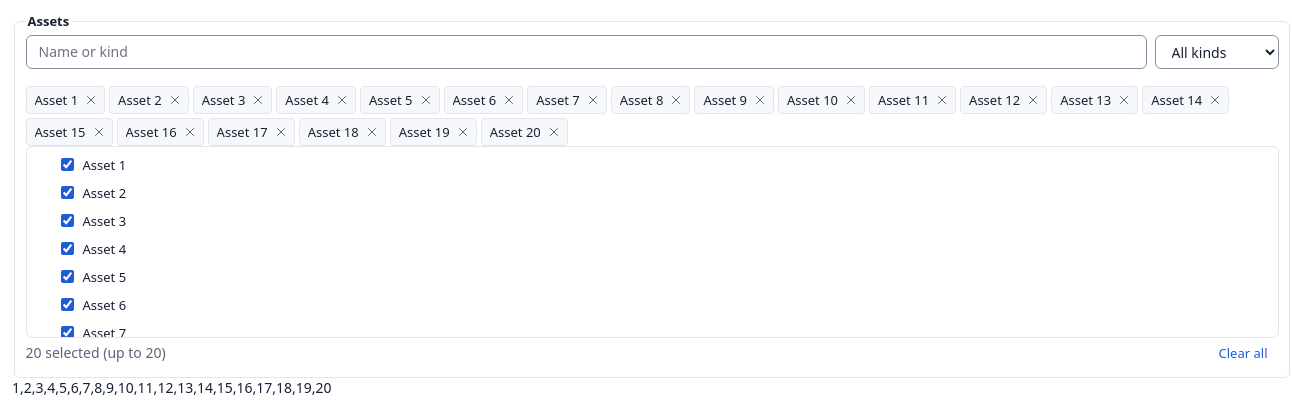
Test: AssetPicker › stops at the cap: the rest are disabled until something is unchecked
Expected: the text "20 selected (up to 20)" is shown, [26, 343, 166, 363]
Click the checkbox labelled "Asset 1" at point(67, 165), box [60, 158, 74, 171]
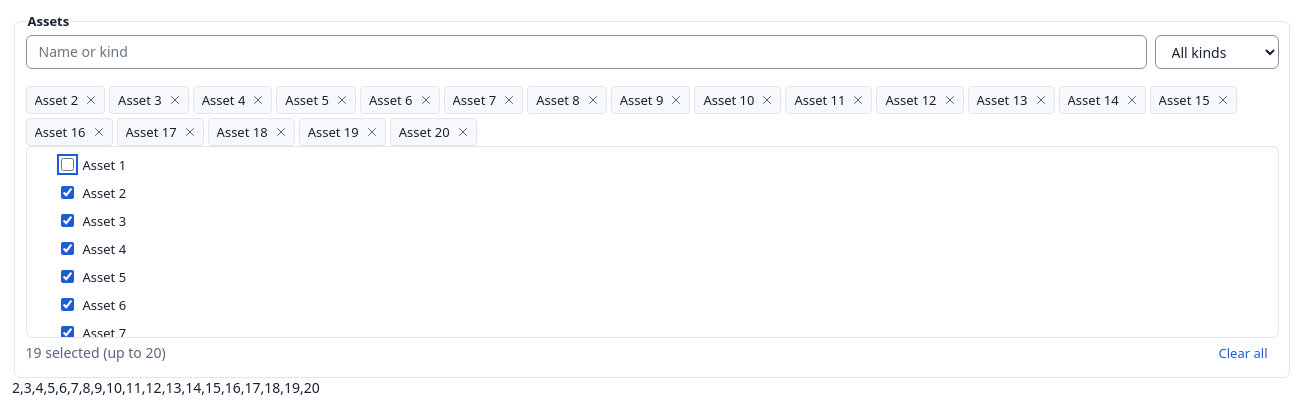
Expected: the text "19 selected (up to 20)" is shown, [26, 343, 166, 363]
